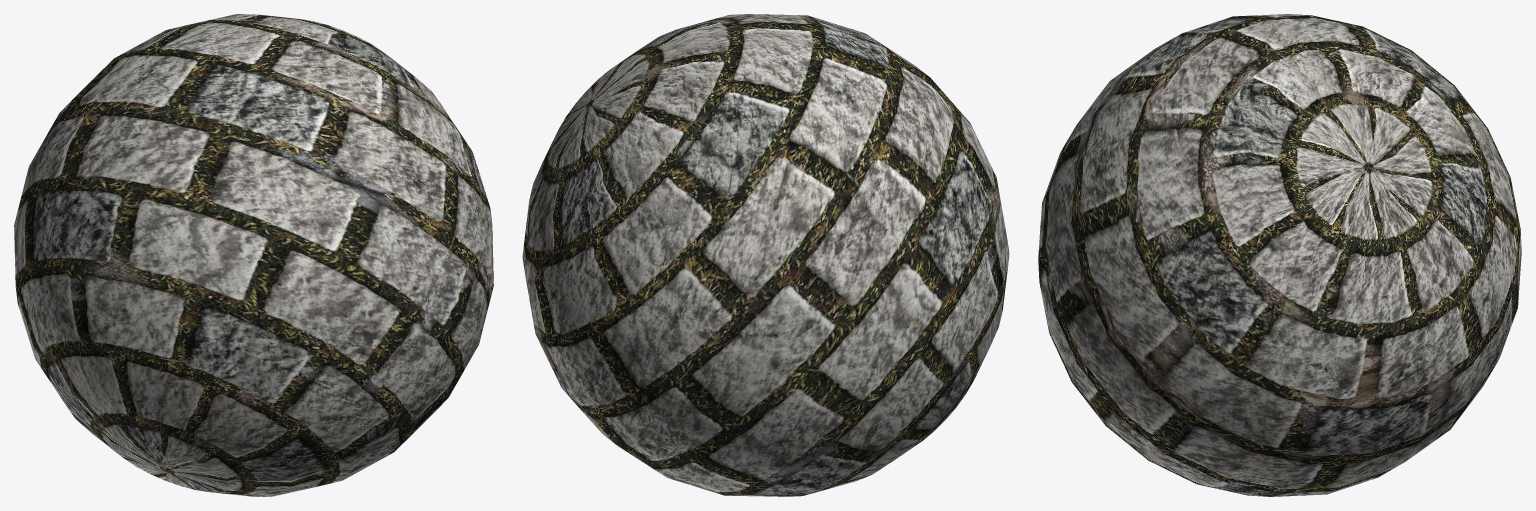
File: try2.fbx
3 views of the same model, side by side, from view 1: azimuth 30°, elevation 25°; view 2: azimuth 150°, elevation 25°; view 3: azimuth 270°, elevation 25° (orthographic).
Visible parts, largest first — view 1: 球体; view 2: 球体; view 3: 球体.
Part boxes in pixels (bbox=[...]): 球体: bbox=[14, 14, 493, 496]; 球体: bbox=[522, 14, 1009, 496]; 球体: bbox=[1038, 14, 1521, 496].
Bounding box in the file's own units: 198 × 200 × 198.
1 material, 1 textured.
